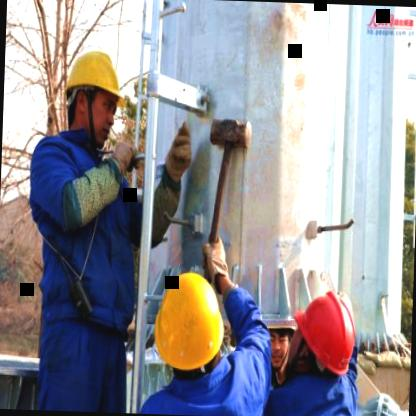helmet: (146, 266, 232, 386), (60, 34, 133, 156), (283, 286, 363, 386)
